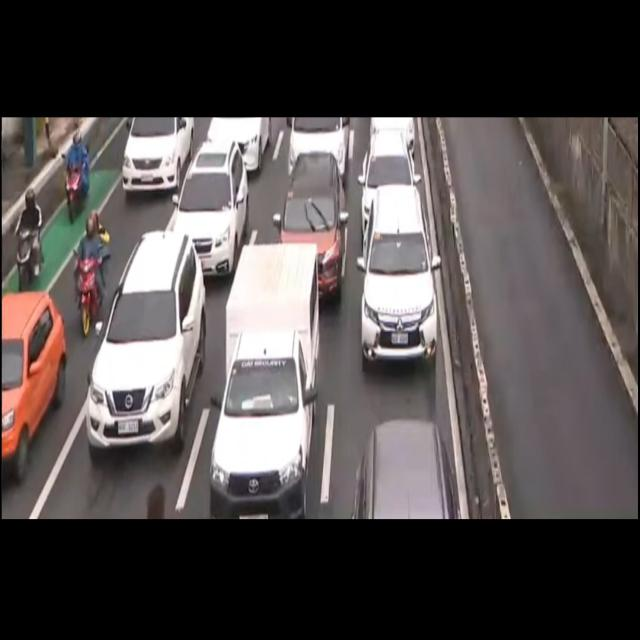Motorcycle: (64, 213, 109, 348), (12, 187, 48, 290), (59, 126, 92, 213)
Pick-up: (211, 243, 324, 526)
SUV: (85, 224, 211, 455), (355, 186, 440, 352), (342, 420, 466, 524), (277, 146, 344, 306), (169, 140, 248, 272), (361, 130, 426, 230)
Sedan: (1, 290, 66, 483), (118, 116, 199, 188)
